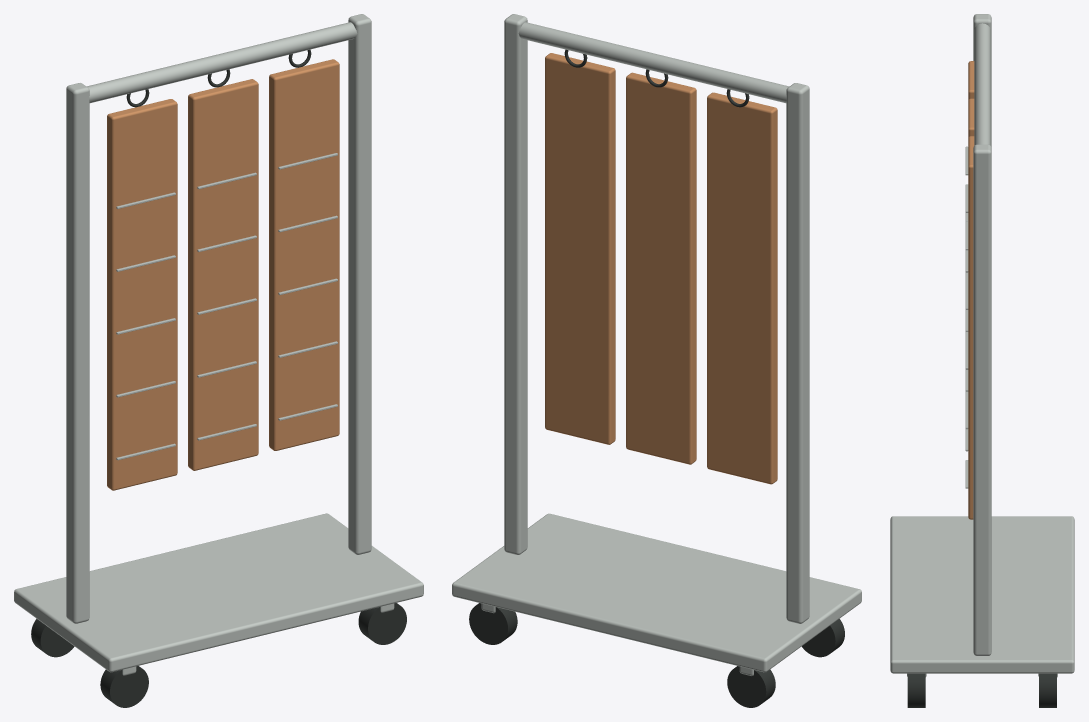
The model's file is spacecraft-thermal-test-chamber-thermal-blanket-rack-a8bc4324__32035.glb.
3 views of the same model, side by side, from view 1: azimuth 30°, elevation 25°; view 2: azimuth 150°, elevation 25°; view 3: azimuth 270°, elevation 25° (orthographic). The views are drawn at different scales.
Visible parts, largest first — view 1: thermal-blanket-rack; view 2: thermal-blanket-rack; view 3: thermal-blanket-rack.
Boxes of the visible parts, bbox=[...] form: thermal-blanket-rack: bbox=[14, 14, 423, 707]; thermal-blanket-rack: bbox=[452, 14, 861, 707]; thermal-blanket-rack: bbox=[890, 14, 1074, 707].
Size of the model in its own units: 1.05 by 1.9 by 0.5599.
